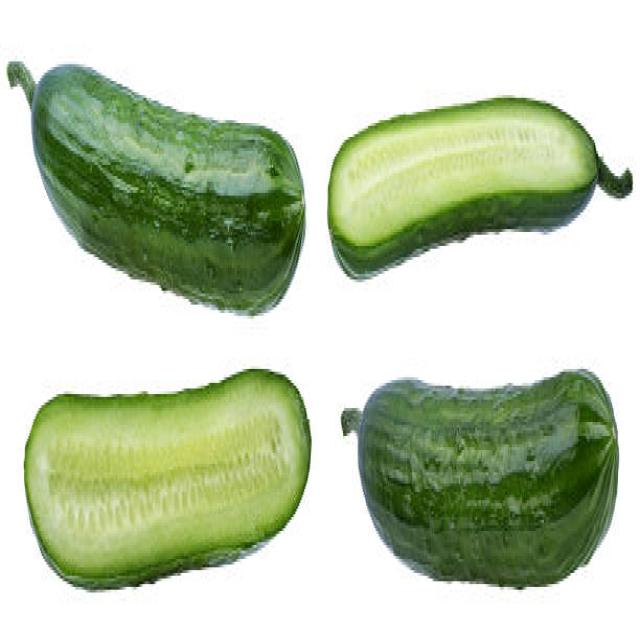cucumber: (32, 62, 306, 318), (24, 367, 311, 591), (358, 369, 620, 591), (327, 94, 597, 284)
